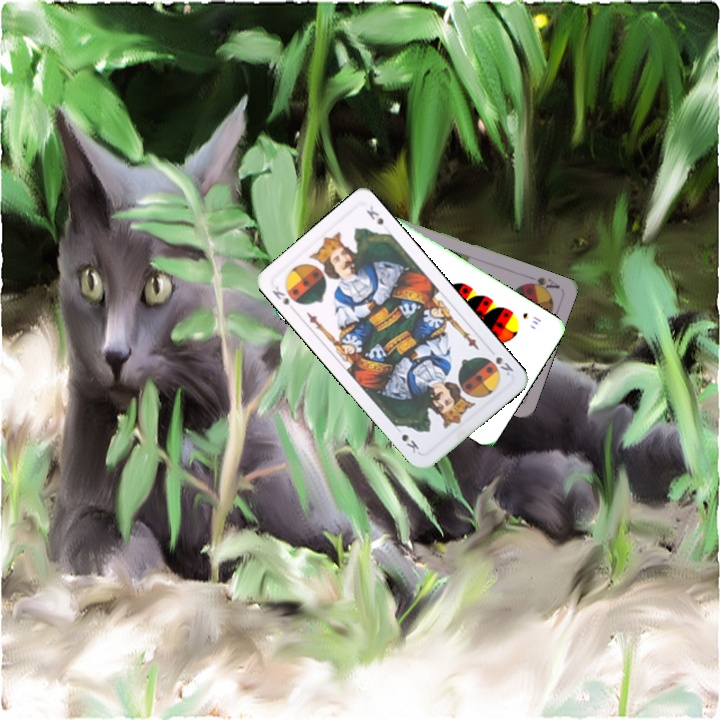S10: (518, 308, 544, 328)
SA: (521, 271, 563, 295)
SK: (491, 352, 516, 378), (268, 282, 292, 309)
